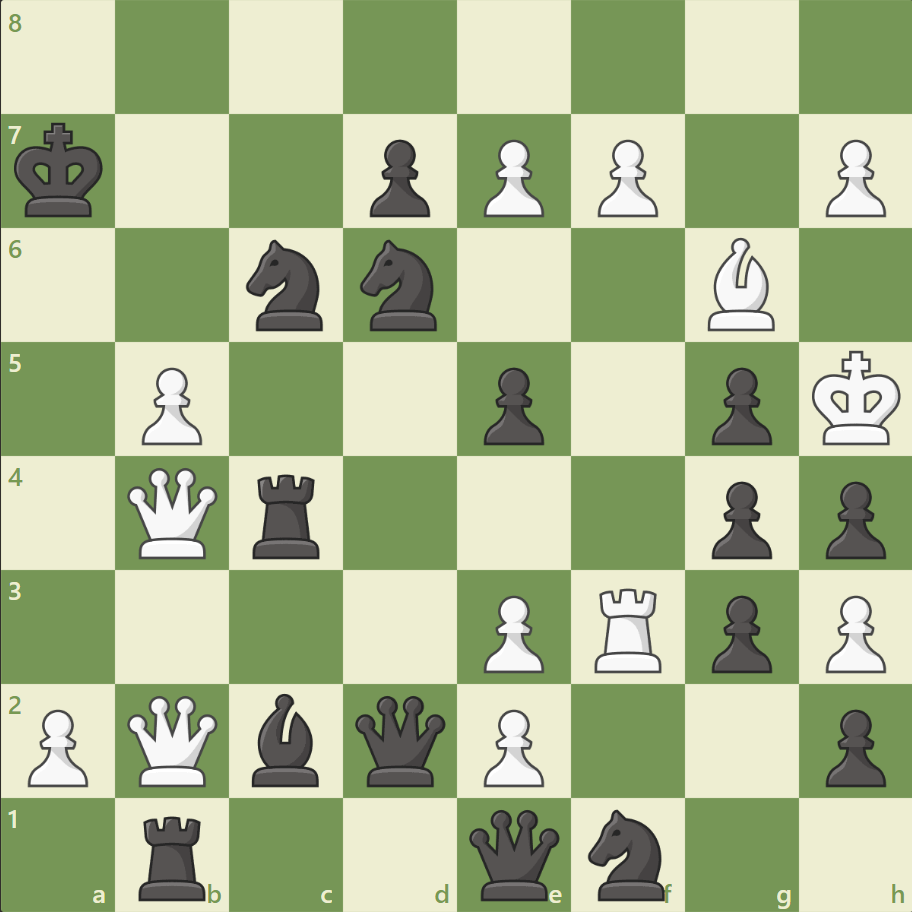B: (698, 233, 782, 336)
K: (806, 344, 906, 452)
P: (474, 132, 549, 223), (133, 359, 208, 450), (474, 586, 549, 677), (20, 700, 95, 791), (474, 700, 549, 791), (588, 132, 662, 223), (815, 132, 889, 223), (815, 586, 889, 677)
Q: (124, 463, 223, 562), (124, 690, 223, 789)
R: (587, 579, 670, 676)
b: (244, 687, 328, 790)
k: (11, 117, 111, 225)
n: (351, 234, 449, 337), (238, 234, 335, 337), (579, 802, 676, 904)
p: (474, 359, 549, 450), (701, 359, 776, 450), (701, 473, 776, 564), (701, 586, 776, 677), (361, 132, 435, 223), (815, 473, 889, 564), (815, 700, 889, 791)
q: (351, 690, 450, 789), (464, 804, 563, 903)
r: (246, 466, 329, 563), (133, 806, 215, 904)
